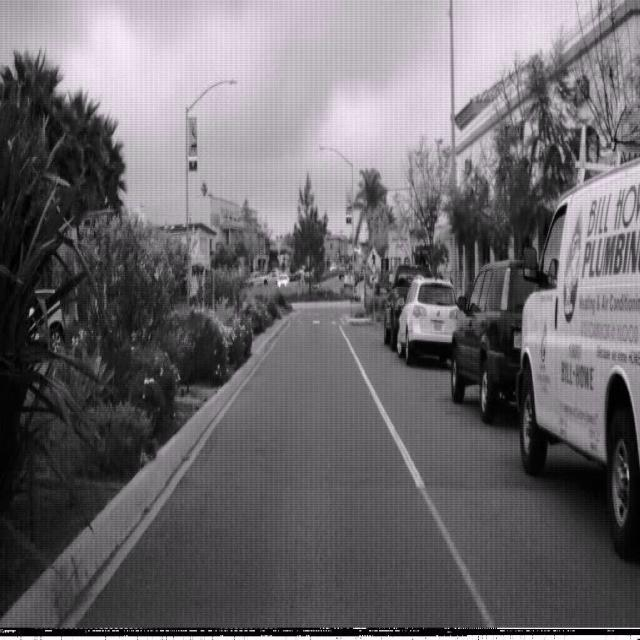pedestrianCrossing: (366, 245, 382, 275)
